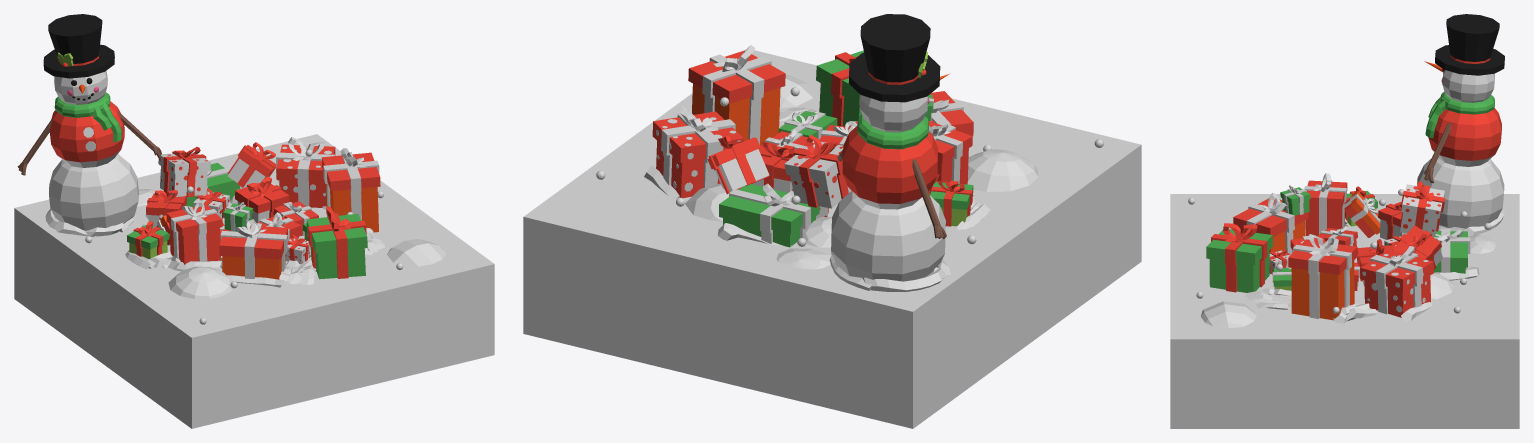
Rendered from christmas scene.glb.
3 renders of one model, left to right at view 1: azimuth 30°, elevation 25°; view 2: azimuth 150°, elevation 25°; view 3: azimuth 270°, elevation 25°, orthographic. The views are drawn at different scales.
Visible parts, largest first — view 1: group984652469, group2093051608, group385402332, group1715402553, group1398461394, group1225141938, group195235000, group784588934, group1571551701, group1631516506, group2100967039, group484289719 (+9 smaller); view 2: group984652469, group2093051608, group1715402553, group1225141938, group535900711, group784588934, group1571551701, group385402332, group2100967039, group195235000, group1301494852, group1631516506 (+7 smaller); view 3: group984652469, group2093051608, group1715402553, group1225141938, group385402332, group1398461394, group195235000, group784588934, group535900711, group484289719, group2100967039, group2045374356 (+10 smaller).
Boxes of the visible parts, <box> form: group984652469: <box>14,134,494,428</box>; group2093051608: <box>17,14,161,230</box>; group385402332: <box>306,206,367,279</box>; group1715402553: <box>321,148,380,232</box>; group1398461394: <box>219,219,287,279</box>; group1225141938: <box>276,137,335,207</box>; group195235000: <box>166,202,222,264</box>; group784588934: <box>158,146,210,196</box>; group1571551701: <box>168,266,232,298</box>; group1631516506: <box>235,177,289,222</box>; group2100967039: <box>227,142,276,187</box>; group484289719: <box>387,239,445,266</box>; group984652469: <box>523,50,1141,428</box>; group2093051608: <box>831,14,949,281</box>; group1715402553: <box>688,45,785,146</box>; group1225141938: <box>652,105,743,198</box>; group535900711: <box>719,183,819,247</box>; group784588934: <box>784,135,851,208</box>; group1571551701: <box>967,149,1038,191</box>; group385402332: <box>816,50,863,126</box>; group2100967039: <box>707,136,769,194</box>; group195235000: <box>929,121,972,184</box>; group1301494852: <box>930,181,973,226</box>; group1631516506: <box>752,141,796,192</box>; group984652469: <box>1170,194,1519,428</box>; group2093051608: <box>1417,14,1504,228</box>; group1715402553: <box>1288,234,1357,320</box>; group1225141938: <box>1360,246,1433,317</box>; group385402332: <box>1206,223,1272,292</box>; group1398461394: <box>1233,192,1308,254</box>; group195235000: <box>1304,173,1347,235</box>; group784588934: <box>1400,181,1445,237</box>; group535900711: <box>1434,229,1470,273</box>; group484289719: <box>1201,301,1256,328</box>; group2100967039: <box>1392,225,1442,269</box>; group2045374356: <box>1344,190,1380,237</box>.
Size of the model in its own units: 1.31 by 1.14 by 1.29.
